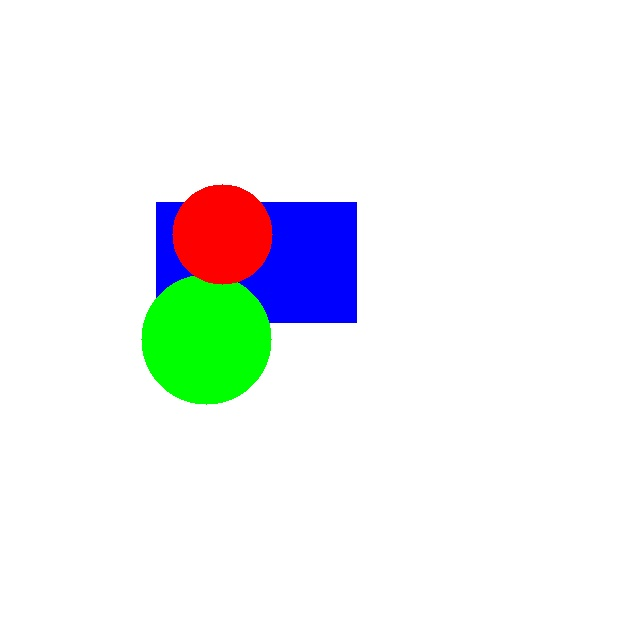cartao: (156, 202, 356, 322)
rosca_externa: (141, 274, 271, 404)
rosca_interna: (172, 184, 272, 284)
